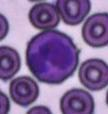E: (25, 30, 79, 84)
